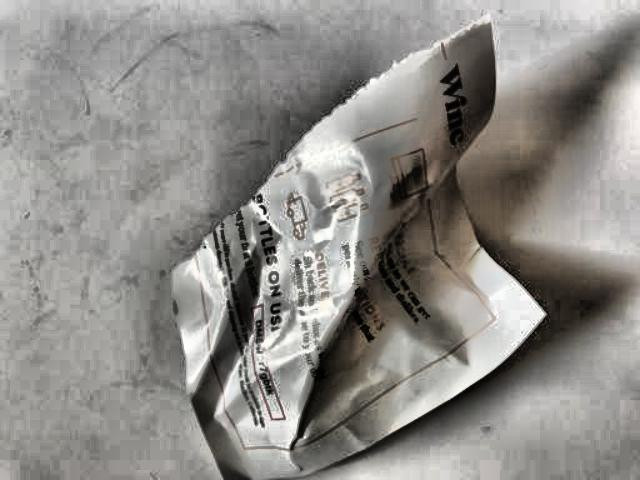Paper: (157, 7, 552, 480)
